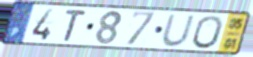4: (29, 7, 54, 42)
7: (125, 10, 158, 48)
8: (94, 10, 123, 46)
O: (191, 14, 225, 50)
T: (62, 8, 88, 43)
U: (160, 14, 197, 49)
